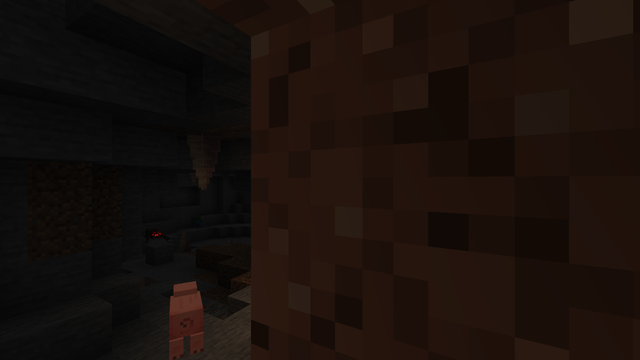araignees: (143, 227, 167, 244)
cochons: (153, 289, 215, 355)
zombies: (195, 217, 199, 227)
